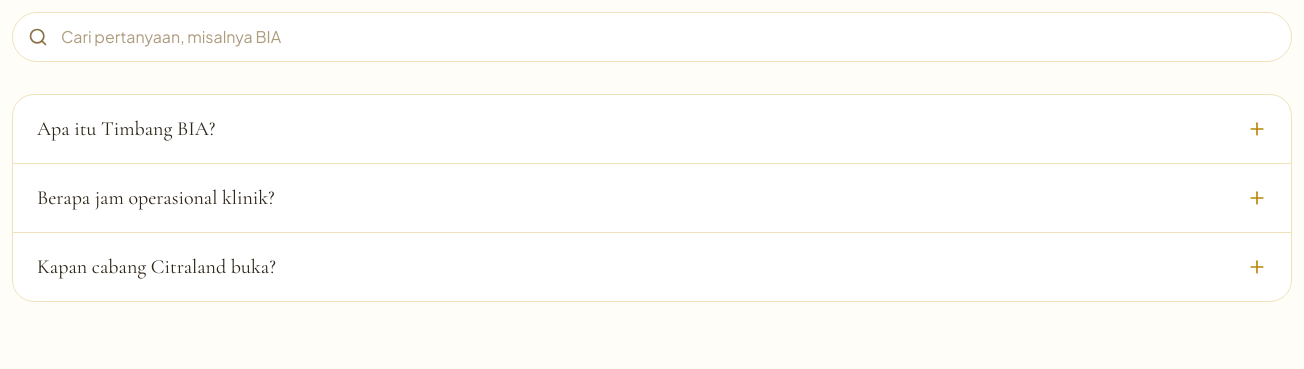
FaqList › membuka dan menutup jawaban
Step 1. Click the button "Apa itu Timbang BIA?" → (126, 129), box [13, 95, 1291, 163]
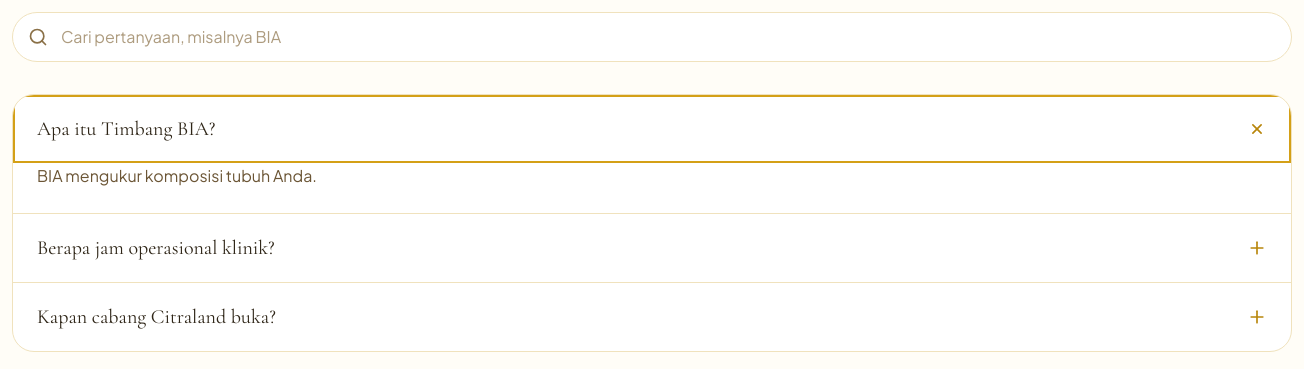
Expected: the element named "Apa itu Timbang BIA?" reads "BIA mengukur komposisi tubuh Anda.", [37, 165, 317, 186]
Result: the button "Apa itu Timbang BIA?" is expanded
Step 2. Click the button "Apa itu Timbang BIA?" → (126, 129), box [13, 95, 1291, 163]
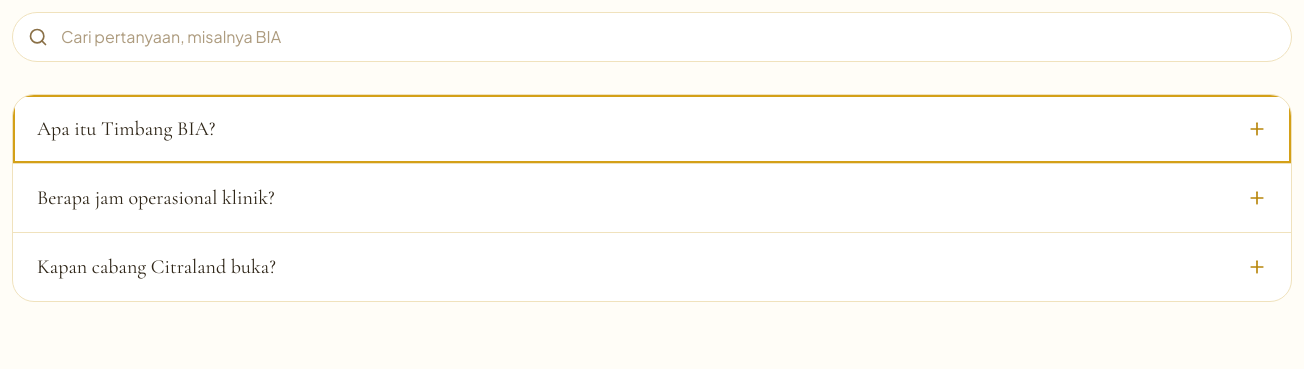
Result: the button "Apa itu Timbang BIA?" is collapsed at [13, 95, 1291, 163]
